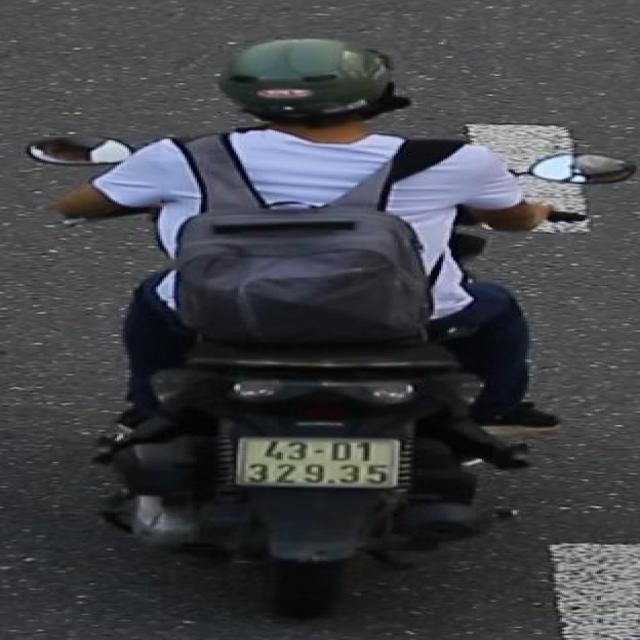LP: (218, 428, 416, 496)
helmet: (208, 30, 422, 137)
